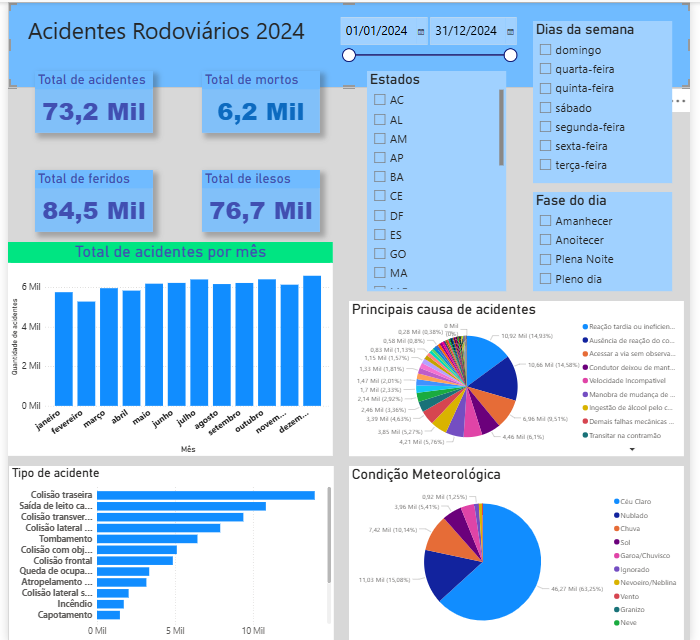

This screenshot's page, from the dashboard's own definition file:
{"tool":"powerbi","page":{"name":"Página 1","canvas":[1280,1200],"ordinal":0},"visuals":[{"type":"shape","box":[0,0,1279.7,161.4],"z":0},{"type":"textbox","box":[32.3,19,831.6,87.3],"z":1},{"type":"slicer","fields":{"Values":["datatran2024.data_inversa"]},"box":[611.2,18.8,352.5,101.2],"z":2},{"type":"card","title":"Total de acidentes","fields":{"Values":["CountNonNull(datatran2024.id)"]},"box":[50.6,129.4,221.2,116.2],"z":3},{"type":"card","title":"Total de mortos","fields":{"Values":["Sum(datatran2024.mortos)"]},"box":[363.8,129.4,221.2,116.2],"z":4},{"type":"card","title":"Total de feridos","fields":{"Values":["Sum(datatran2024.feridos)"]},"box":[50.6,315,221.2,116.2],"z":5},{"type":"card","title":"Total de ilesos","fields":{"Values":["Sum(datatran2024.ilesos)"]},"box":[363.8,315,221.2,116.2],"z":6},{"type":"clusteredColumnChart","title":"Total de acidentes por mês","fields":{"Category":["datatran2024.data_inversa.Variation.Hierarquia de datas.Ano","datatran2024.data_inversa.Variation.Hierarquia de datas.Trimestre","datatran2024.data_inversa.Variation.Hierarquia de datas.Mês","datatran2024.data_inversa.Variation.Hierarquia de datas.Dia"],"Y":["Sum(datatran2024.id)"]},"box":[0,450,609.4,401.2],"z":7},{"type":"slicer","title":"Dias da semana","fields":{"Values":["datatran2024.dia_semana"]},"box":[984.4,35.6,260.6,303.8],"z":8},{"type":"slicer","title":"Fase do dia","fields":{"Values":["datatran2024.fase_dia"]},"box":[984.4,356.2,260.6,185.6],"z":9},{"type":"slicer","title":"Estados","fields":{"Values":["datatran2024.uf"]},"box":[673.1,129.4,260.6,412.5],"z":10},{"type":"pieChart","title":"Principais causa de acidentes","fields":{"Y":["Sum(datatran2024.id)"],"Category":["datatran2024.causa_acidente"]},"box":[639.4,560.6,628.1,290.6],"z":11},{"type":"pieChart","title":"Condição Meteorológica","fields":{"Y":["Sum(datatran2024.id)"],"Category":["datatran2024.condicao_metereologica"]},"box":[639.4,870,628.1,330],"z":12},{"type":"clusteredBarChart","title":"Tipo de acidente","fields":{"Y":["Sum(datatran2024.id)"],"Category":["datatran2024.tipo_acidente"]},"box":[1.9,870,609.4,330],"z":13}]}

Visuals, with their boxes in screenshot pixels (x1, y1, x2, y2), scaled from the page's 1280x1200 canvas onto the 700x640 screenshot:
shape: BBox(0, 0, 699, 86)
textbox: BBox(18, 10, 472, 57)
slicer - datatran2024.data_inversa: BBox(334, 10, 527, 64)
"Total de acidentes" card: BBox(28, 69, 149, 131)
"Total de mortos" card: BBox(199, 69, 320, 131)
"Total de feridos" card: BBox(28, 168, 149, 230)
"Total de ilesos" card: BBox(199, 168, 320, 230)
"Total de acidentes por mês" clusteredColumnChart: BBox(0, 240, 333, 454)
"Dias da semana" slicer: BBox(538, 19, 681, 181)
"Fase do dia" slicer: BBox(538, 190, 681, 289)
"Estados" slicer: BBox(368, 69, 511, 289)
"Principais causa de acidentes" pieChart: BBox(350, 299, 693, 454)
"Condição Meteorológica" pieChart: BBox(350, 464, 693, 639)
"Tipo de acidente" clusteredBarChart: BBox(1, 464, 334, 639)
